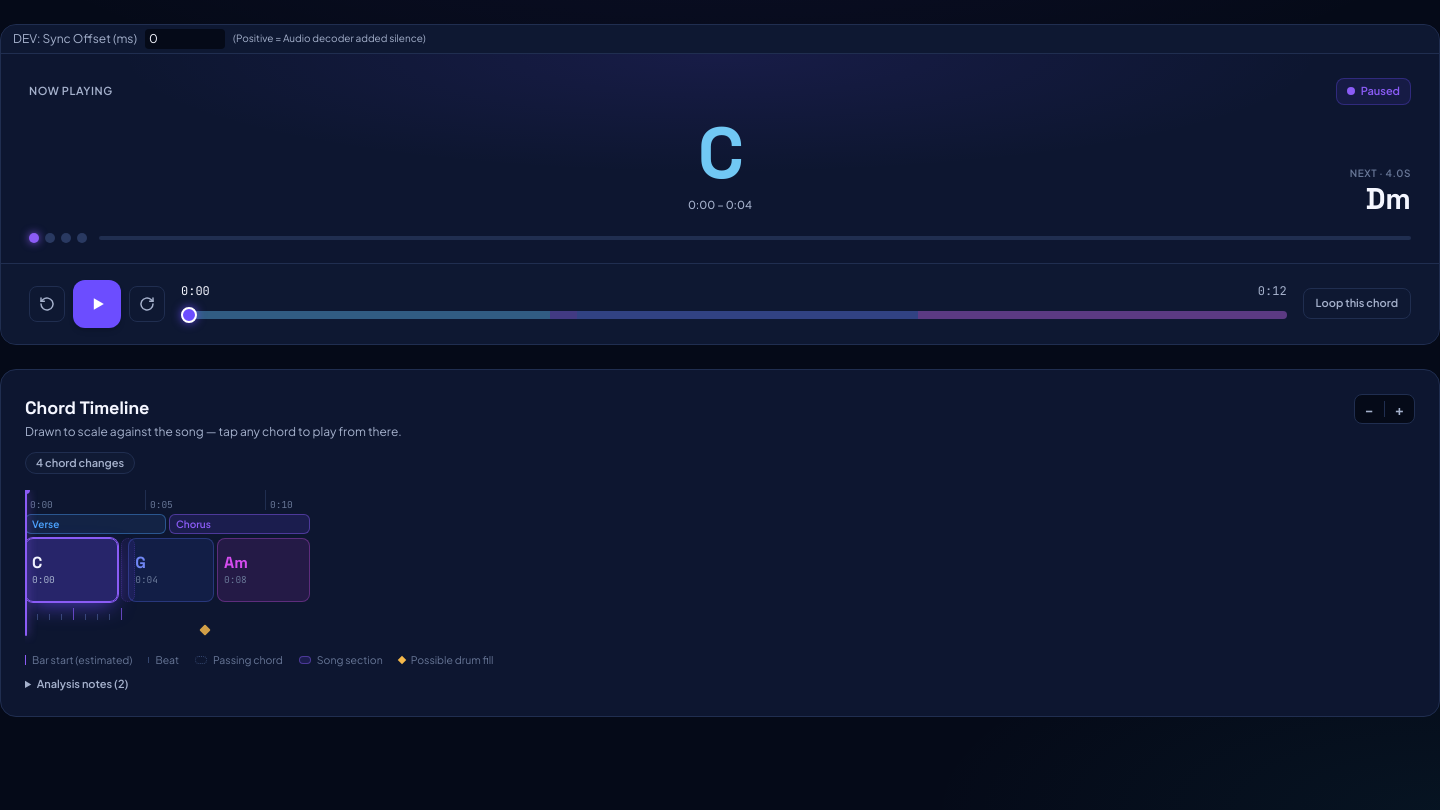
Test: what the timeline shows › warnings sit in a collapsed 'Analysis notes' list that never blocks the timeline
What coordinates should you click on to do the following:
click the heading "Analysis notes (2)"
I would click on:
 (82, 683)
Its box is [37, 677, 128, 690].
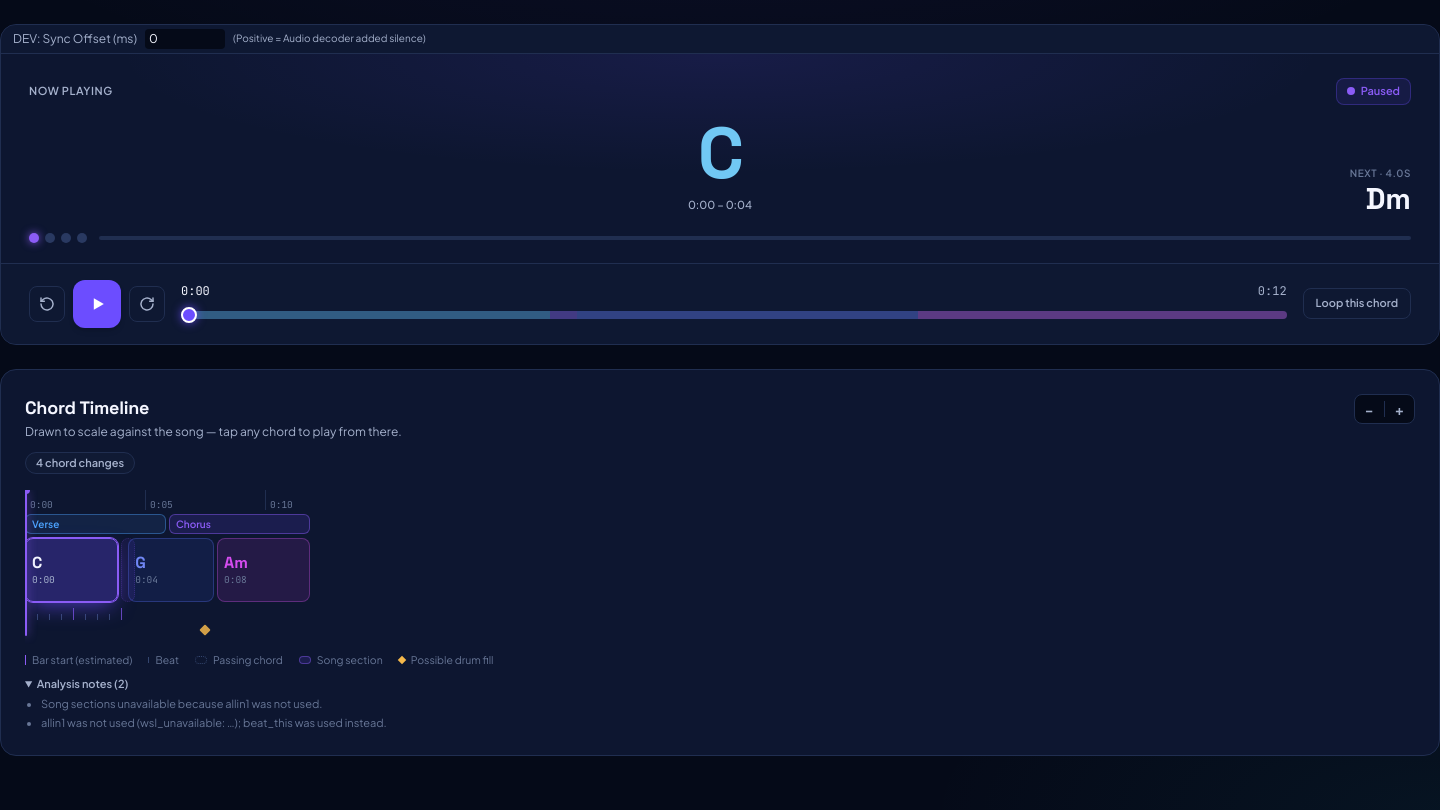
Expected: the button with aria-label "Am · 0:08–0:12" is enabled, [217, 538, 310, 602]
Expected: the list item "Song sections unavailable because allin1 was not used." is shown, [41, 697, 322, 710]
